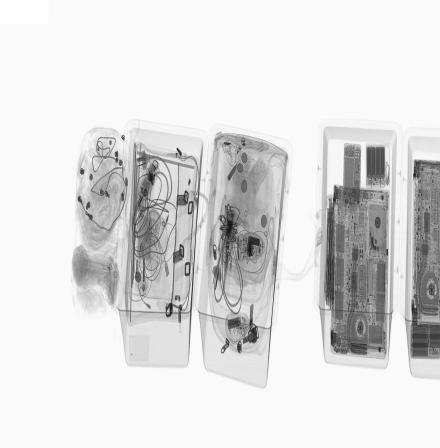Powerbank: (365, 145, 387, 188)
